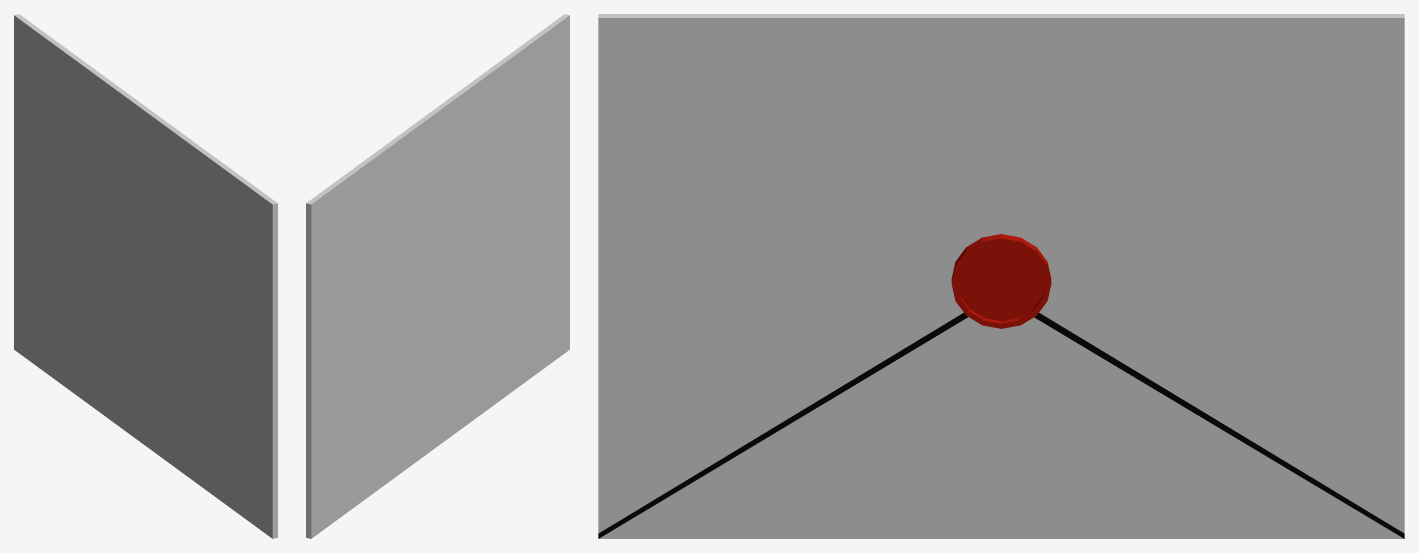
The model's file is SM_Letter.fbx.
The picture shows the model from 3 angles, left to right: view 1: azimuth 30°, elevation 25°; view 2: azimuth 150°, elevation 25°; view 3: azimuth 270°, elevation 25°; orthographic projection. The views are drawn at different scales.
Visible parts, largest first — view 1: Letter; view 2: Letter; view 3: Letter.
Boxes of the visible parts, left/top/right/bottom form: Letter: left=14, top=14, right=277, bottom=538; Letter: left=306, top=14, right=569, bottom=538; Letter: left=598, top=14, right=1404, bottom=538.
Size of the model in its own units: 0.9697 by 28.26 by 39.63.
